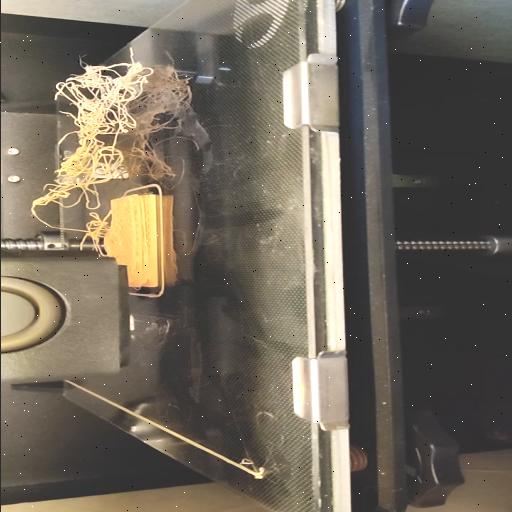spaghetti: (27, 42, 153, 254)
